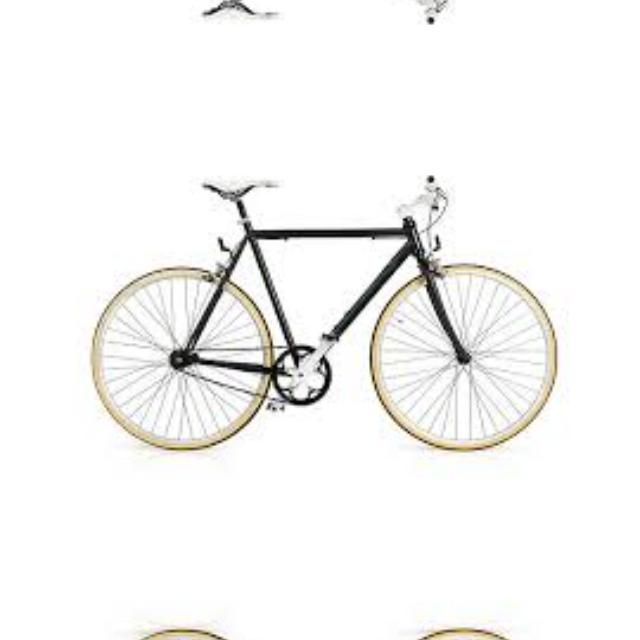obstacle: (75, 154, 577, 472), (75, 0, 577, 43), (75, 608, 577, 640)
